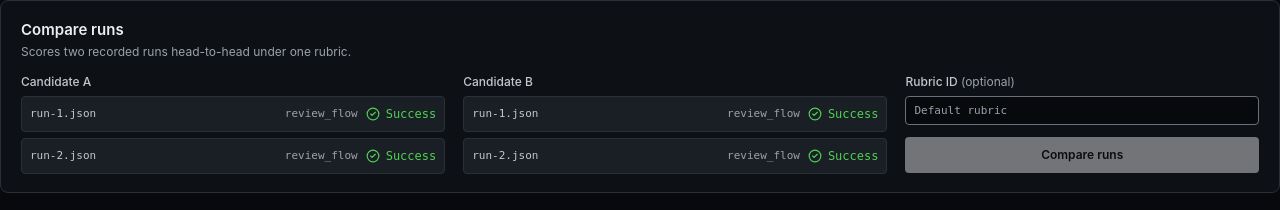
Scenario: RunComparePanel › disallows picking the same run for both candidates
Click the button with aria-label "pick run-1.json for candidate A".
click(63, 114)  # box [21,96,445,132]
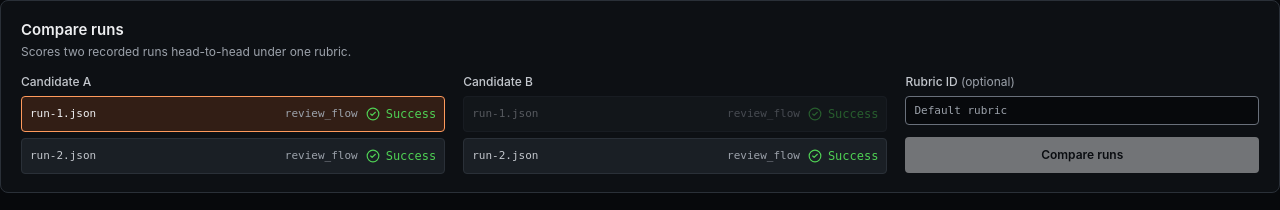
Expected: the button "Compare runs" is disabled, [906,136,1259,172]
Expected: the button with aria-label "pick run-1.json for candidate B" is disabled, [463,96,887,132]
